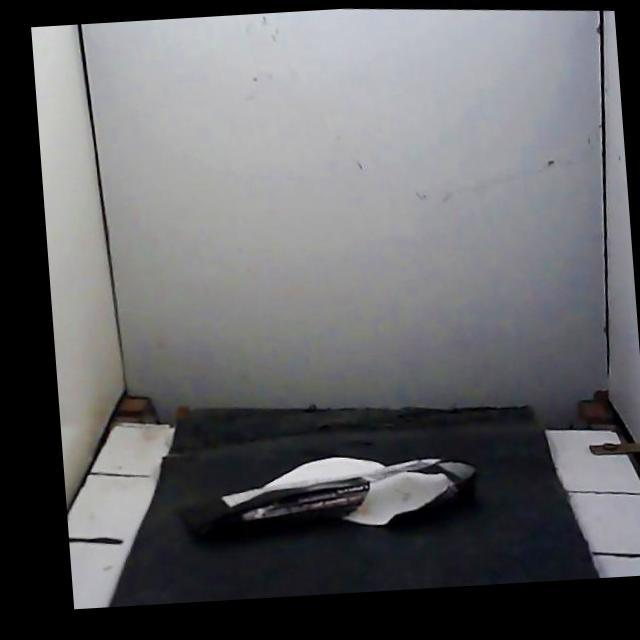plastico: (182, 457, 475, 537)
